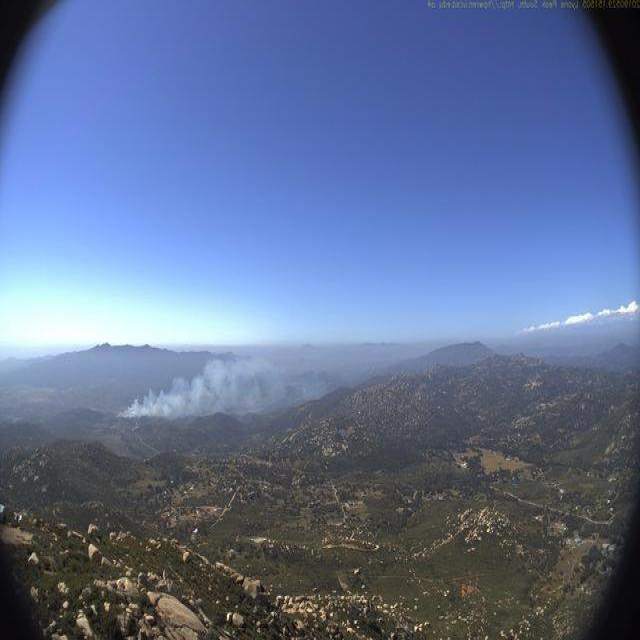Smoke: (115, 351, 337, 425)
